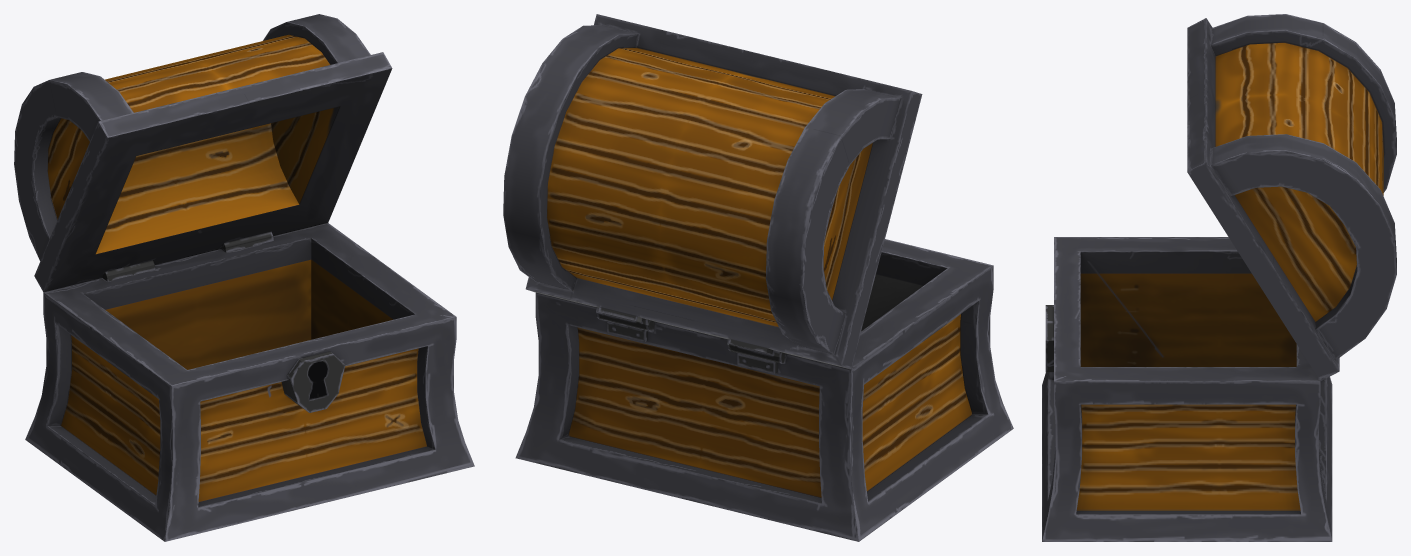
Rendered from Chest.Obj.
The picture shows the model from 3 angles, left to right: view 1: azimuth 30°, elevation 25°; view 2: azimuth 150°, elevation 25°; view 3: azimuth 270°, elevation 25°; orthographic projection. The views are drawn at different scales.
Visible parts, largest first — view 1: TreasureChest2; view 2: TreasureChest2; view 3: TreasureChest2.
Part boxes in pixels (x1,y1,x2,y2): TreasureChest2: [14, 14, 474, 541]; TreasureChest2: [503, 14, 1013, 541]; TreasureChest2: [1042, 14, 1396, 541].
Size of the model in its own units: 8.43 by 9.54 by 8.05.
